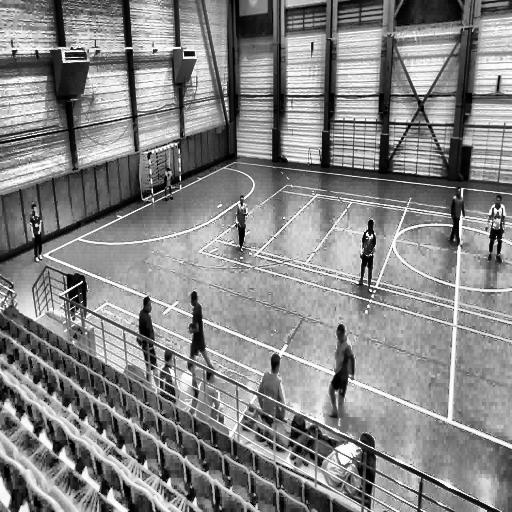player: (329, 322, 354, 422), (188, 291, 210, 379), (484, 193, 506, 265), (356, 218, 377, 292), (448, 184, 465, 247), (29, 200, 45, 262), (235, 194, 250, 252), (163, 166, 175, 204)
